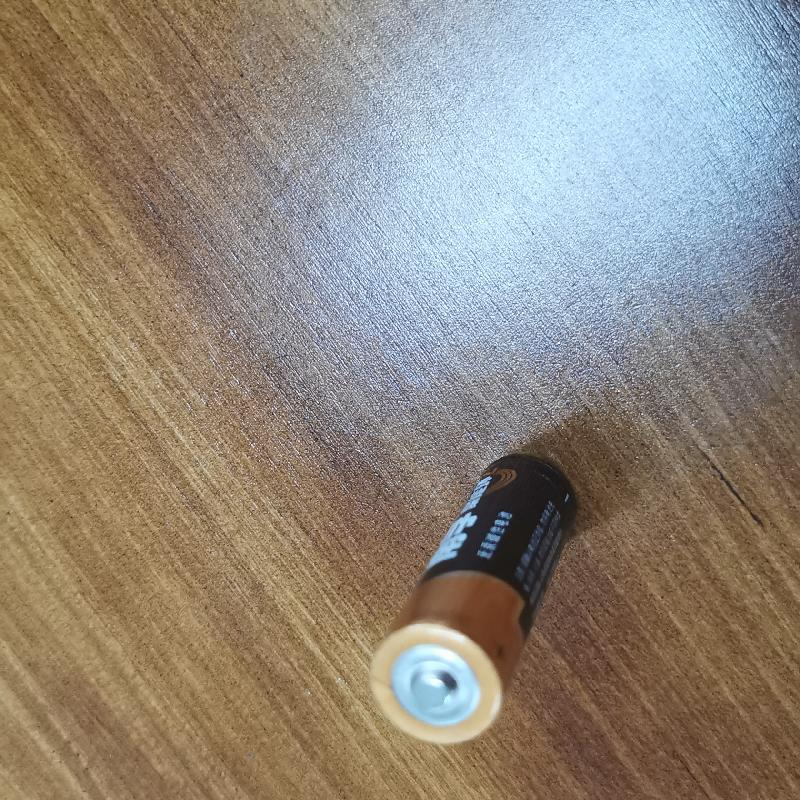battery: (368, 456, 583, 745)
